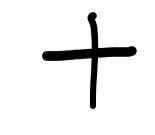plus: (42, 12, 137, 110)
